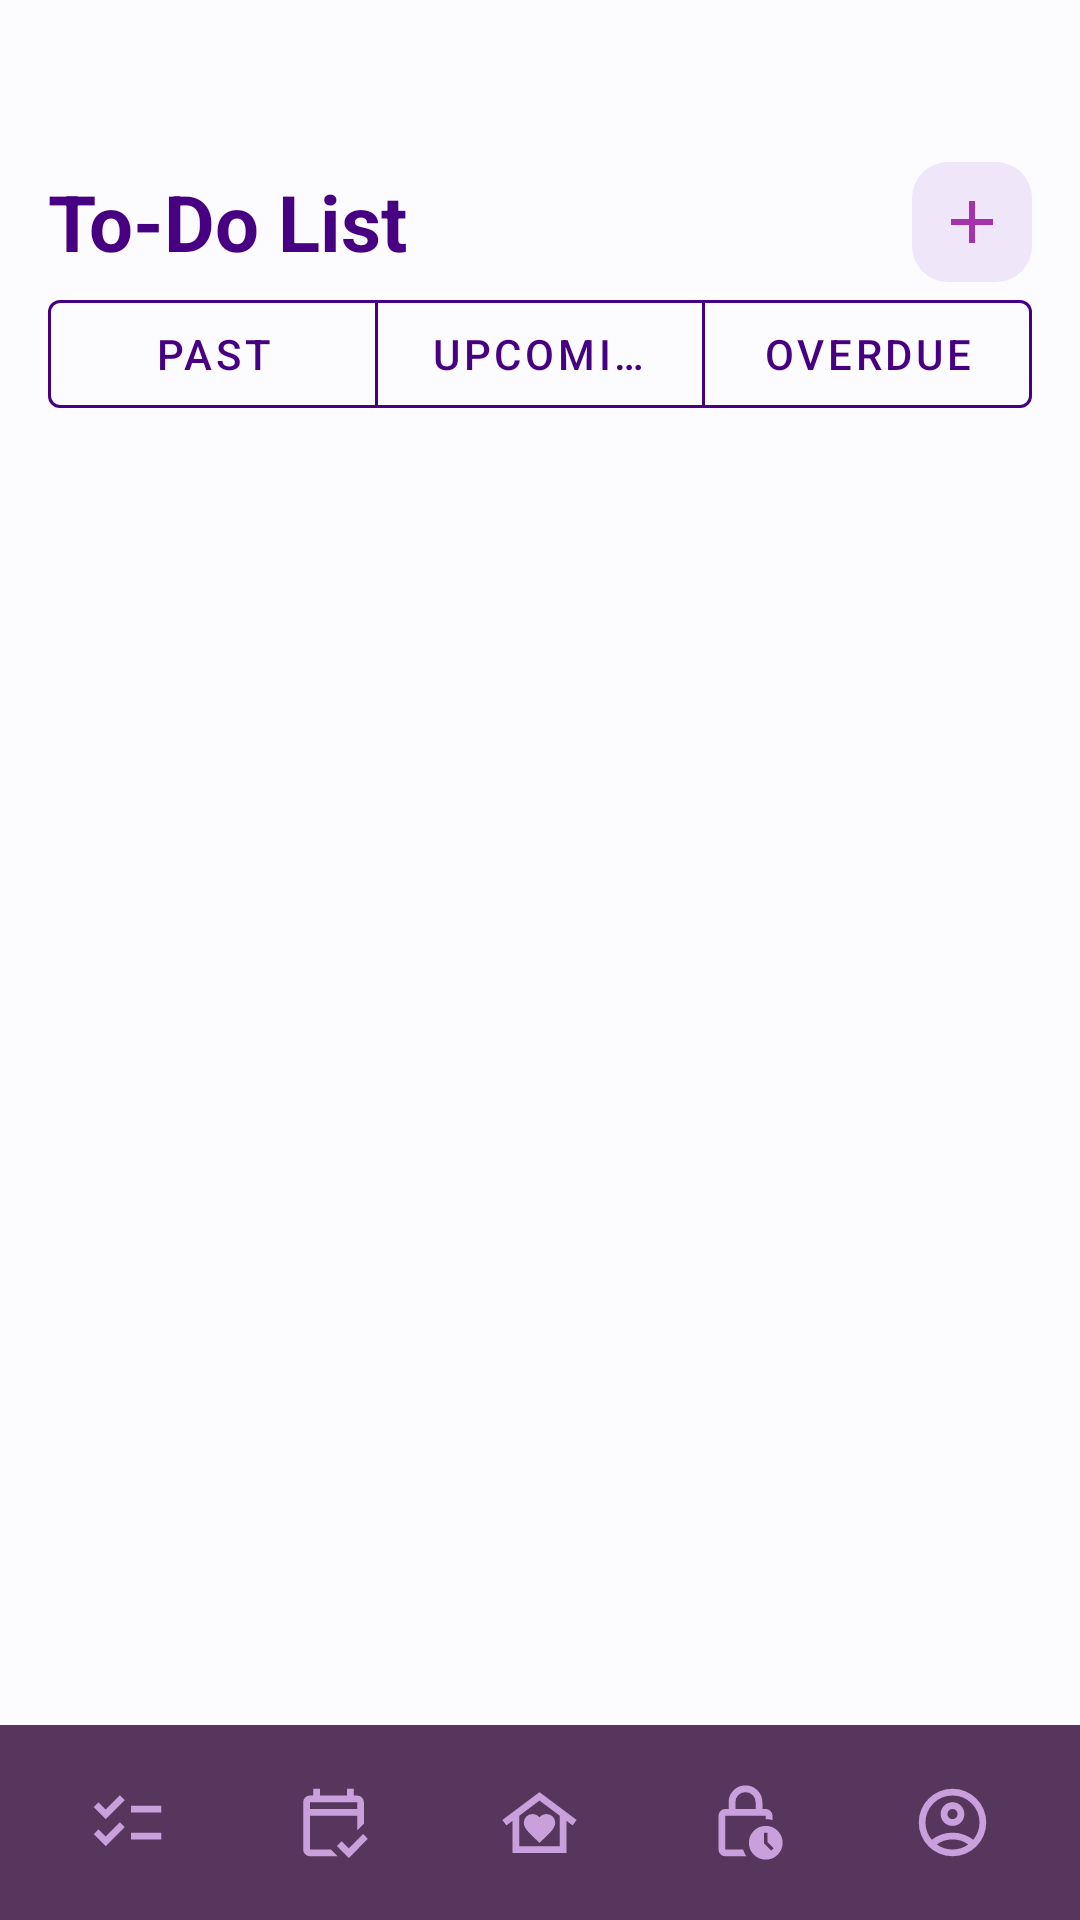

Screen size 1080*1920. Icon name, then its box in pixels as (x1, y1, x2, y2):
account: (918, 1788, 987, 1857)
Add Task: (912, 162, 1032, 282)
calendar: (303, 1788, 368, 1858)
checklist: (94, 1795, 162, 1846)
clock: (718, 1785, 783, 1860)
home: (502, 1792, 577, 1853)
